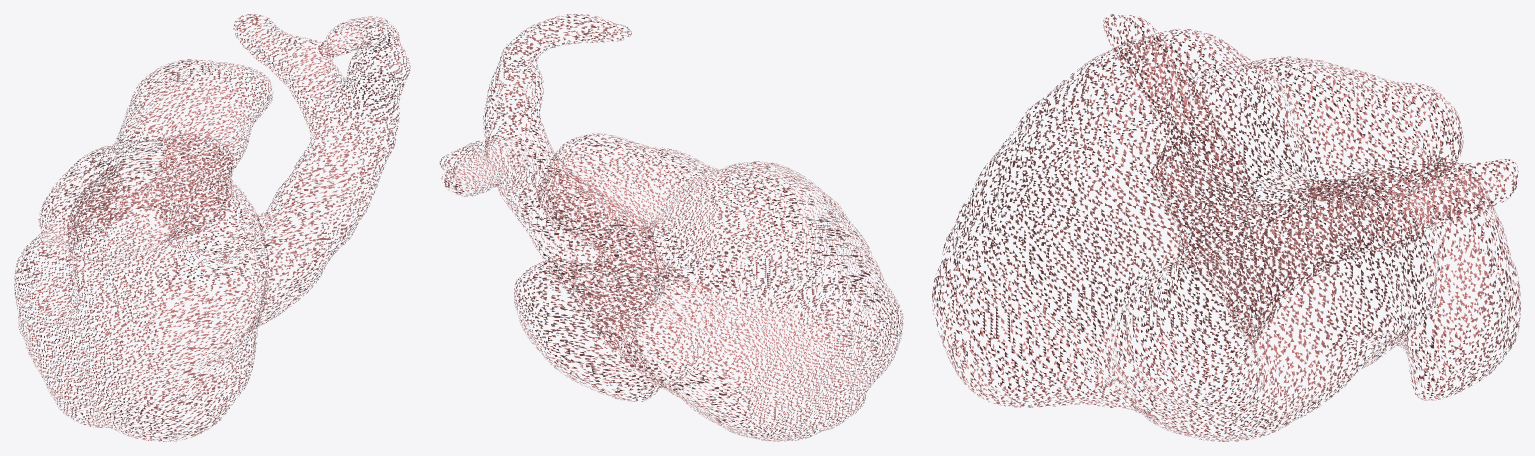
File: heart.glb
The picture shows the model from 3 angles, left to right: view 1: azimuth 30°, elevation 25°; view 2: azimuth 150°, elevation 25°; view 3: azimuth 270°, elevation 25°; orthographic projection. The views are drawn at different scales.
Bounding box in the file's own units: 140 × 131 × 126.
